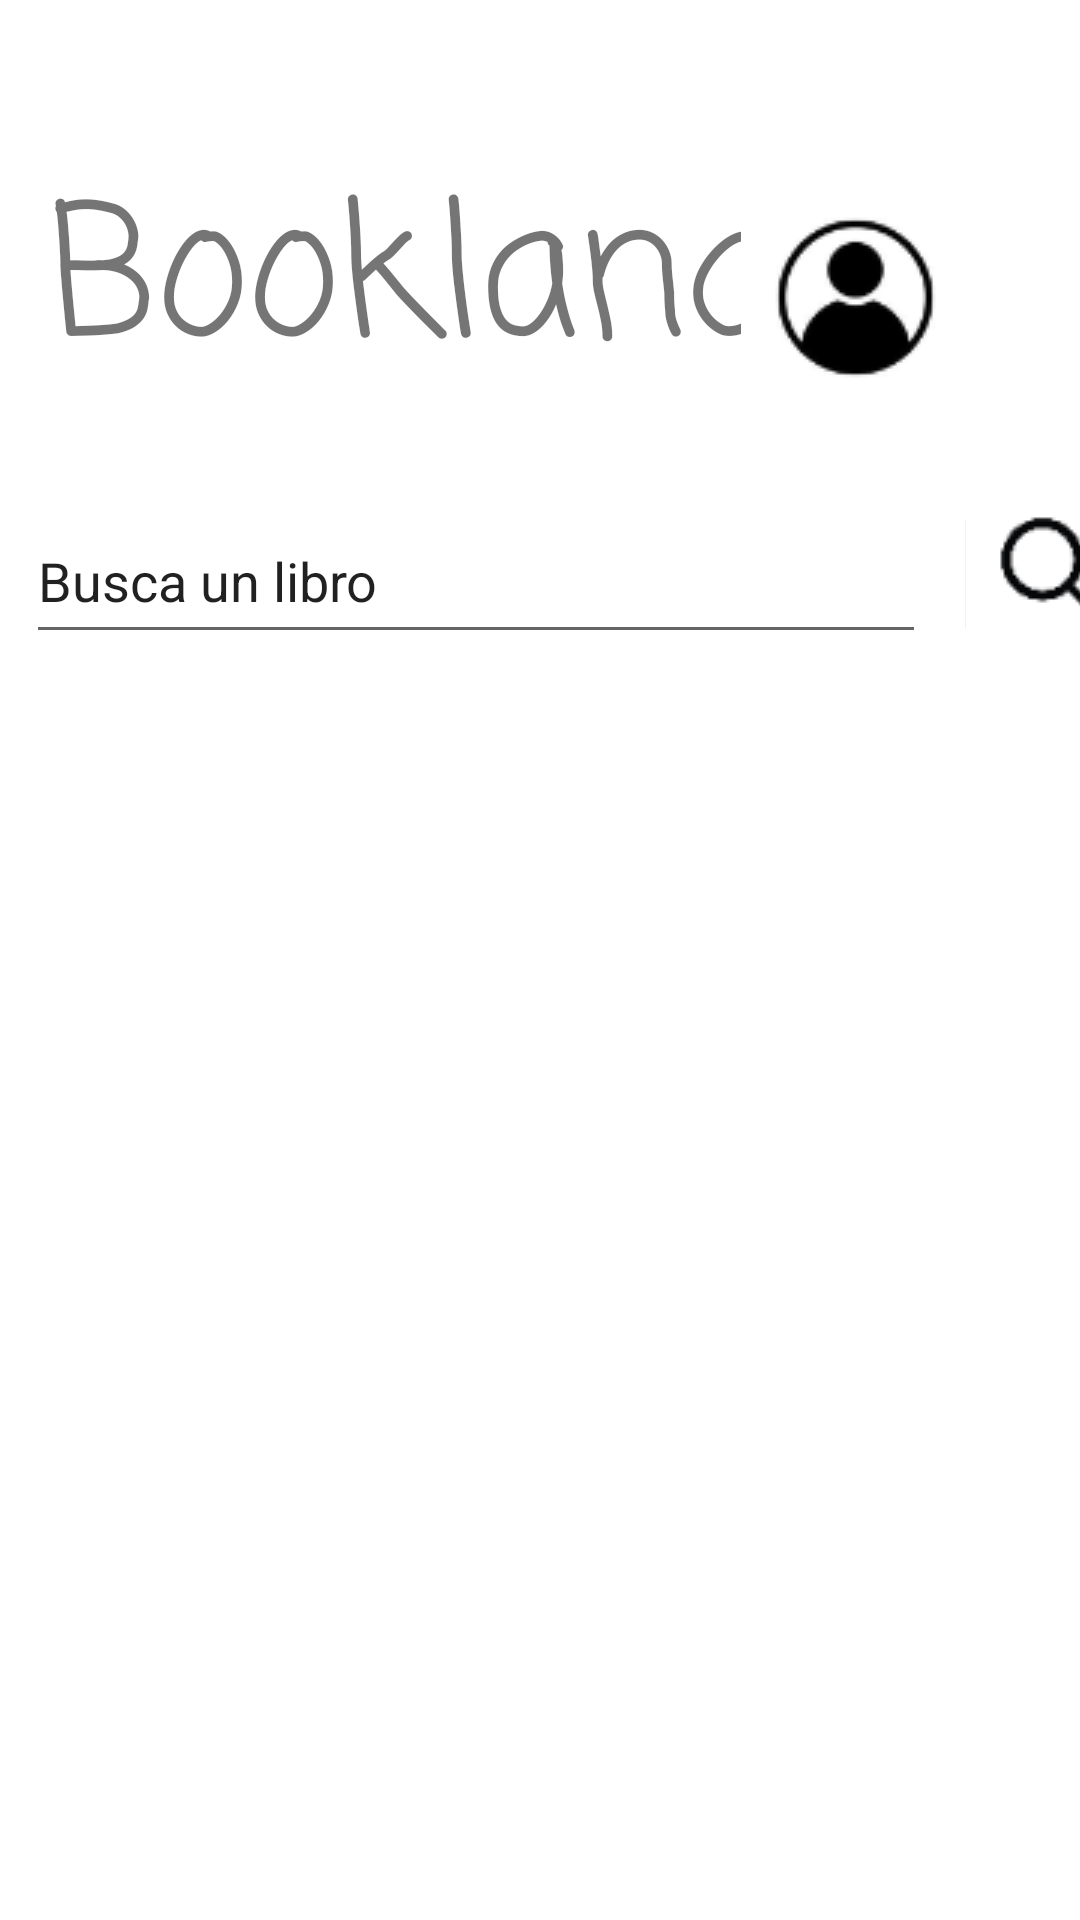

Screen size 1080x1920. Icon name, then its box in pixels as [x1,y1,x2,y2]:
profile: [778,220,933,375]
